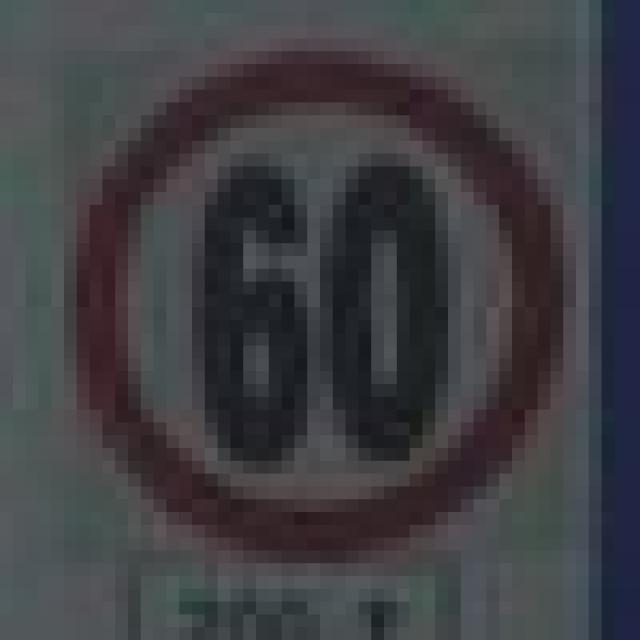SPEED_LIMIT_60: (64, 39, 550, 538)
